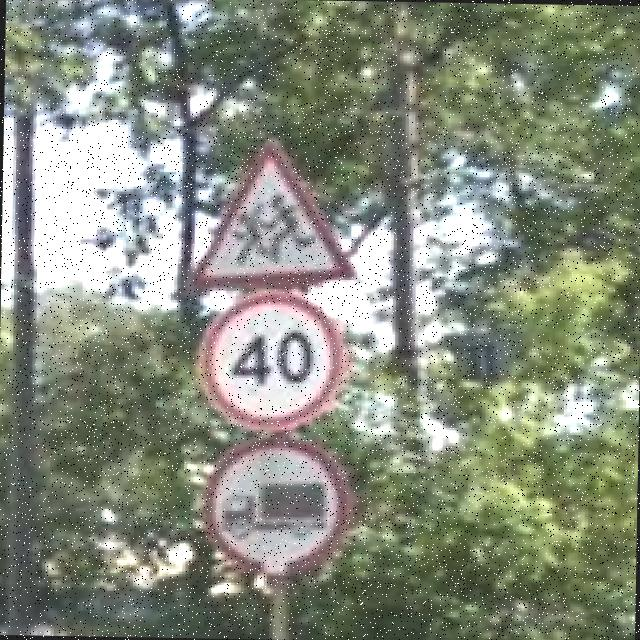Dzieci: (186, 136, 360, 292)
Ograniczenie predkosci do 40: (194, 286, 350, 431)
